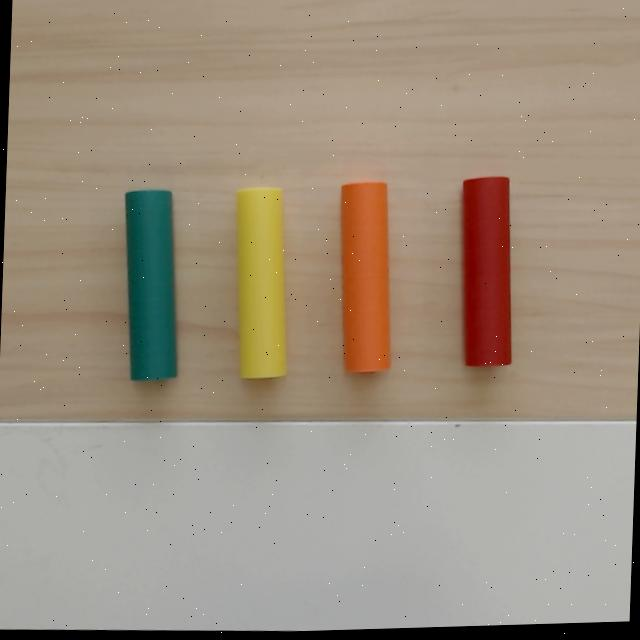Silinder-Hijau-10025: (124, 189, 175, 380)
Silinder-Jingga-10025: (339, 181, 389, 372)
Silinder-Kuning-10025: (235, 187, 286, 378)
Silinder-Merah-10025: (461, 176, 509, 365)
